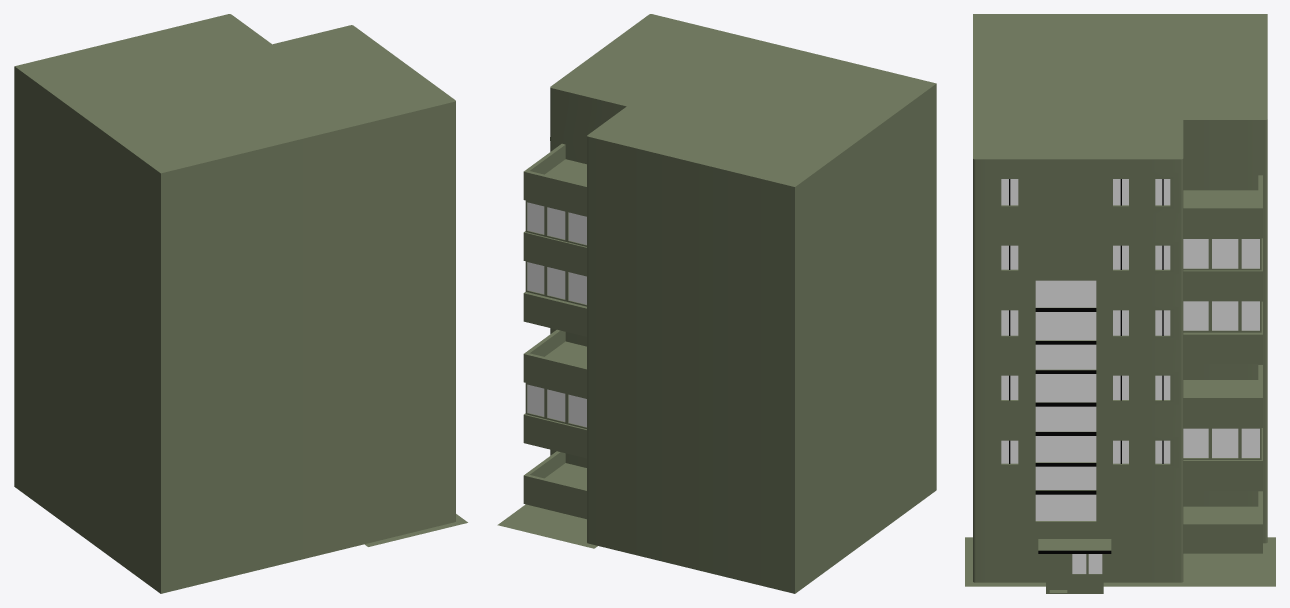
The model's file is Building_1.fbx.
3 renders of one model, left to right at view 1: azimuth 30°, elevation 25°; view 2: azimuth 150°, elevation 25°; view 3: azimuth 270°, elevation 25°, orthographic. The views are drawn at different scales.
Visible parts, largest first — view 1: Box002; view 2: Box002; view 3: Box002.
Boxes of the visible parts, x1,y1,x2,y2 form: Box002: (14, 14, 467, 593); Box002: (497, 14, 936, 593); Box002: (965, 14, 1275, 593).
Bounding box in the file's own units: 956 × 1206 × 800.
